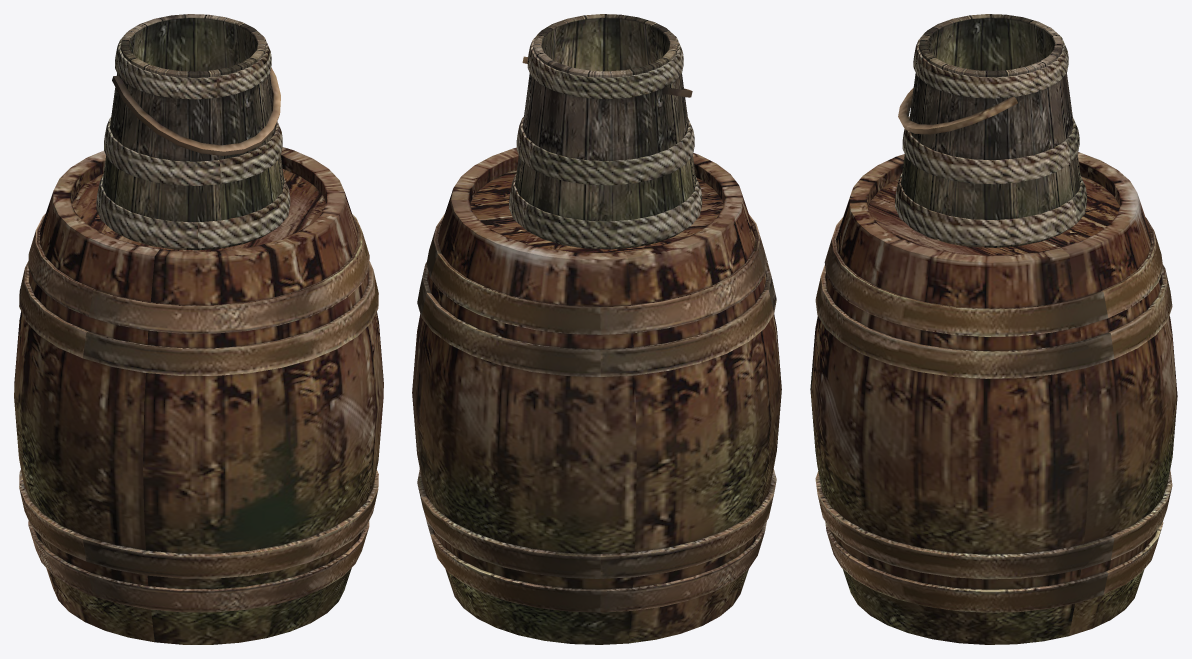
The model's file is woodenbarrels.fbx.
The picture shows the model from 3 angles, left to right: view 1: azimuth 30°, elevation 25°; view 2: azimuth 150°, elevation 25°; view 3: azimuth 270°, elevation 25°; orthographic projection.
Visible parts, largest first — view 1: polySurface681, polySurface682; view 2: polySurface681, polySurface682; view 3: polySurface681, polySurface682.
Part boxes in pixels (box(x1,y1,x2,y2)): polySurface681: box(14, 147, 383, 644); polySurface682: box(96, 14, 290, 250); polySurface681: box(412, 147, 781, 644); polySurface682: box(509, 14, 702, 249); polySurface681: box(810, 152, 1177, 644); polySurface682: box(895, 14, 1086, 247).
Size of the model in its own units: 92.55 by 149 by 92.55.
